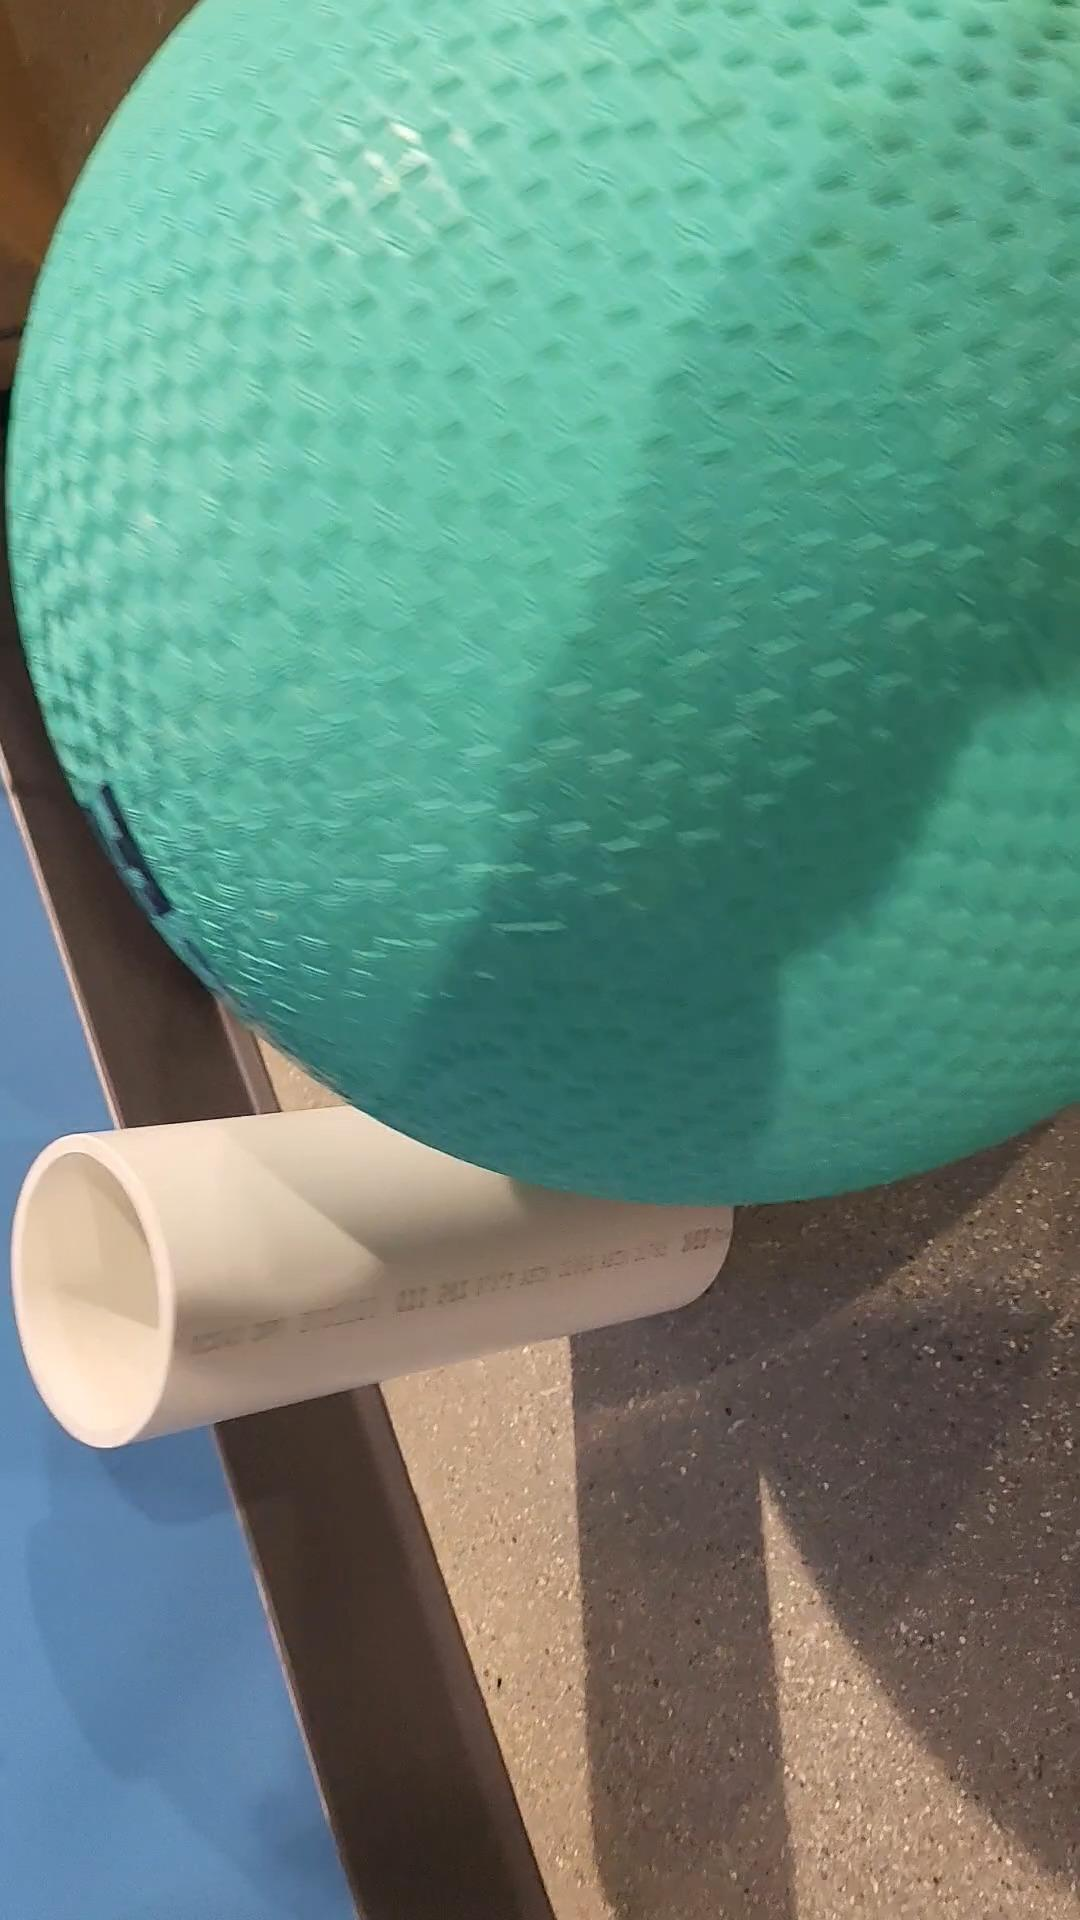algae: (11, 0, 1079, 1203)
coral: (15, 1095, 735, 1451)
